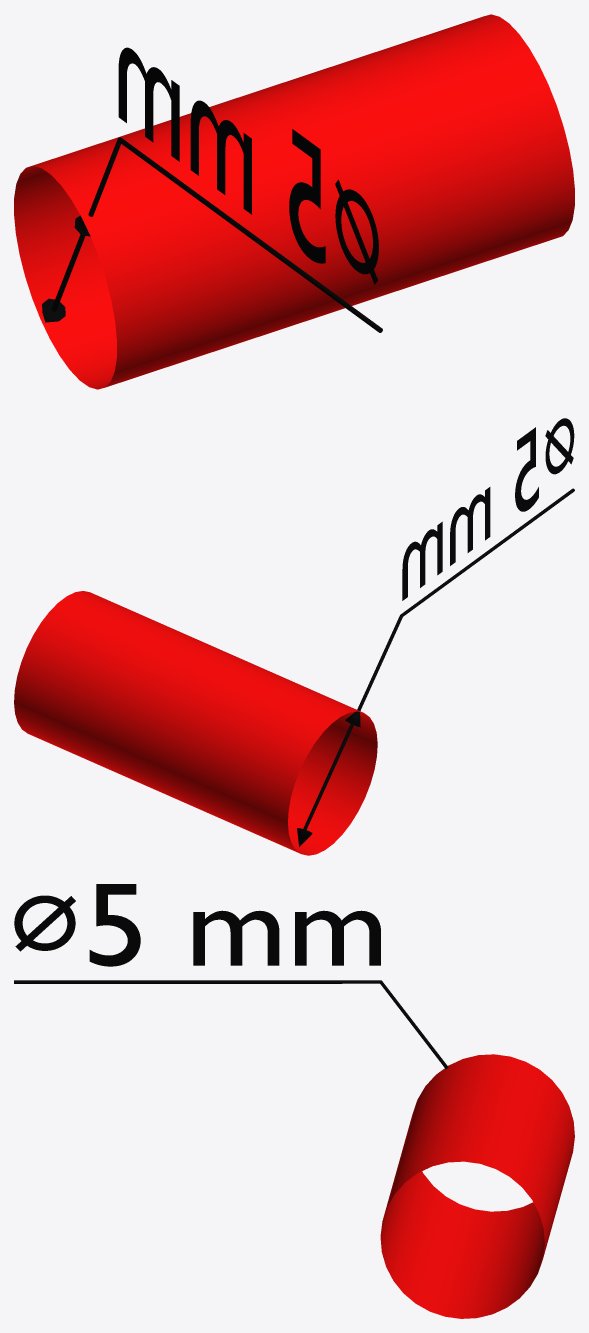
3 views of the same model, one above another, from view 1: azimuth 30°, elevation 25°; view 2: azimuth 150°, elevation 25°; view 3: azimuth 270°, elevation 25° (orthographic). The views are drawn at different scales.
Visible parts, largest first — view 1: ZT, Text, NurbsPath; view 2: ZT, Text, NurbsPath; view 3: ZT, Text, NurbsPath.
Boxes of the visible parts, box(x1,y1,x2,y2) form: ZT: box(14, 14, 574, 389); Text: box(118, 47, 378, 284); NurbsPath: box(51, 137, 382, 332); ZT: box(14, 591, 377, 855); Text: box(402, 418, 574, 600); NurbsPath: box(303, 488, 574, 829); ZT: box(380, 1054, 574, 1318); Text: box(14, 884, 380, 966); NurbsPath: box(14, 980, 448, 1069).
Bounding box in the file's own units: 2.05 × 1.82 × 2.95.
